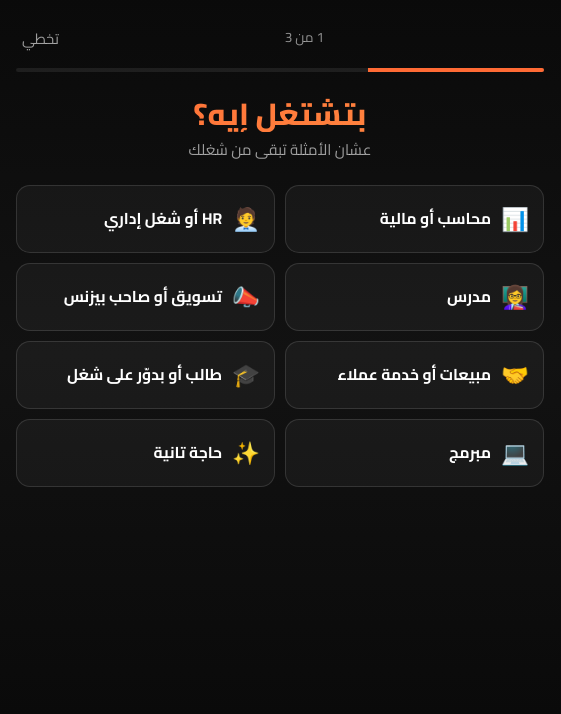
OnboardingPage › reveals the accounting mistake and records a correct first check
The width and height of the screenshot is (561, 714).
What coordinates should you click on to do the following:
click the radio button labelled "محاسب أو مالية"
I would click on:
 (414, 219)
Its box is [285,185,544,253].
Wait 250 ms
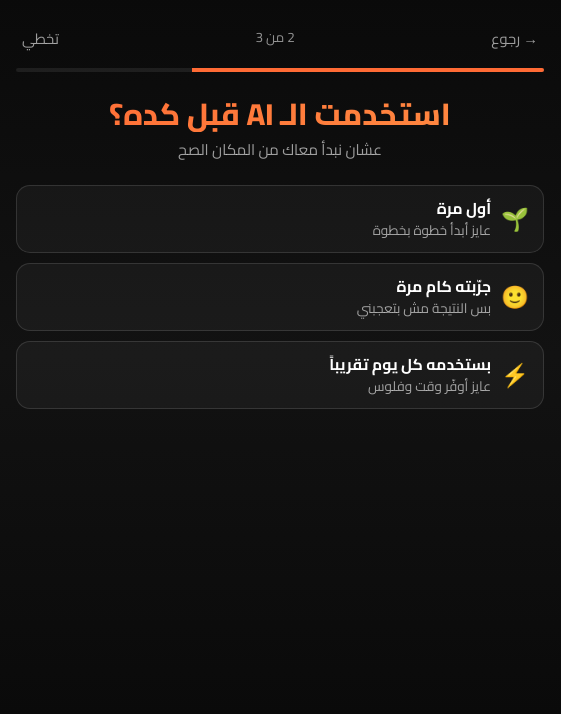
Now the heading "استخدمت الـ AI قبل كده؟" is shown, box [16,96,544,132]
What coordinates should you click on to do the following:
click the radio button labelled "🌱 أول مرة عايز أبدأ خطوة بخطوة"
I would click on:
 (464, 208)
Its box is [16,185,544,253].
Wait 250 ms
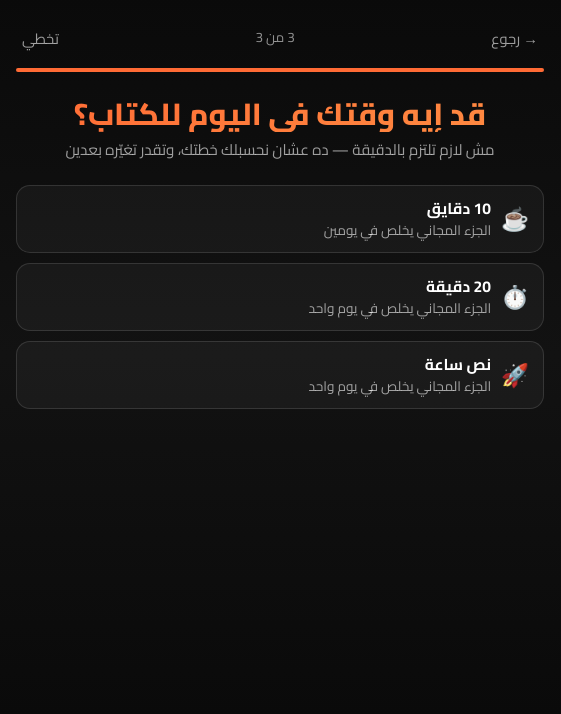
What coordinates should you click on to do the following:
click the radio button labelled "⏱️ 20 دقيقة الجزء المجاني يخلص في يوم واحد"
I would click on:
 (450, 286)
Its box is [16,263,544,331].
Wait 250 ms
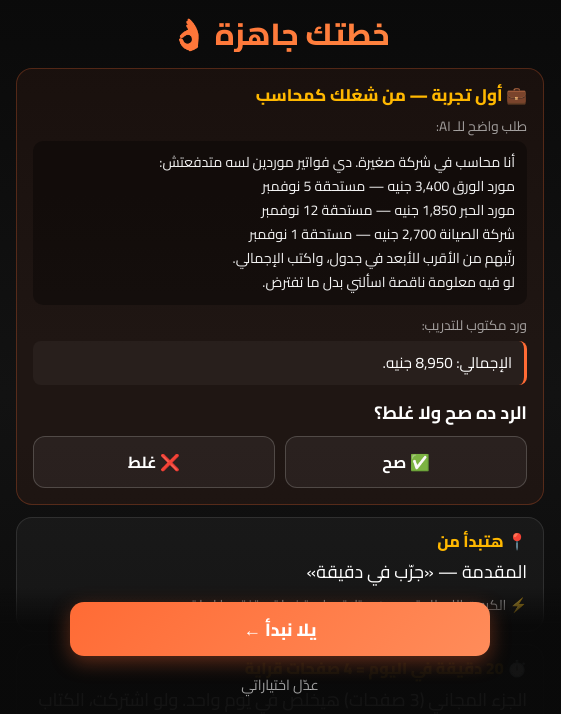
Now the heading "خطتك جاهزة 👌" is shown, box [16,16,544,52]
What coordinates should you click on to do the following:
click the button "❌ غلط"
I would click on:
 (154, 462)
Its box is [33,436,275,488].
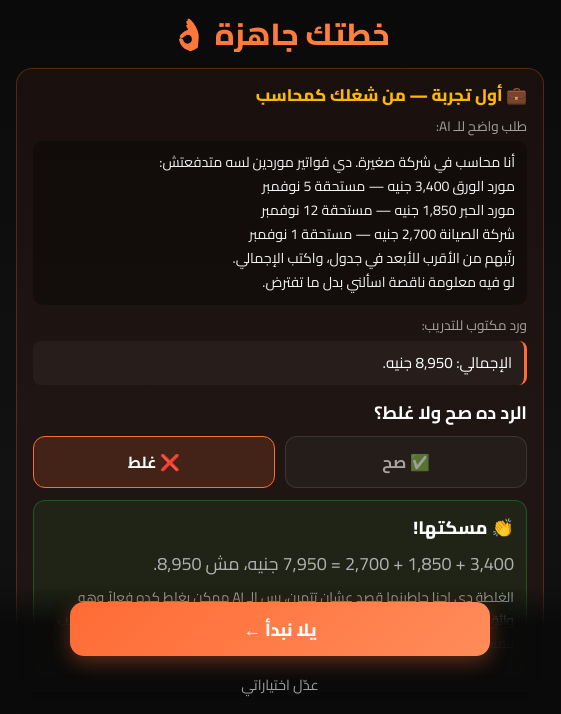
Now the text "👏 مسكتها!" is shown, box [413,511,514,544]
Now the text "3,400 + 1,850 + 2,700 = 7,950 جنيه، مش 8,950." is shown, box [153,547,514,580]
